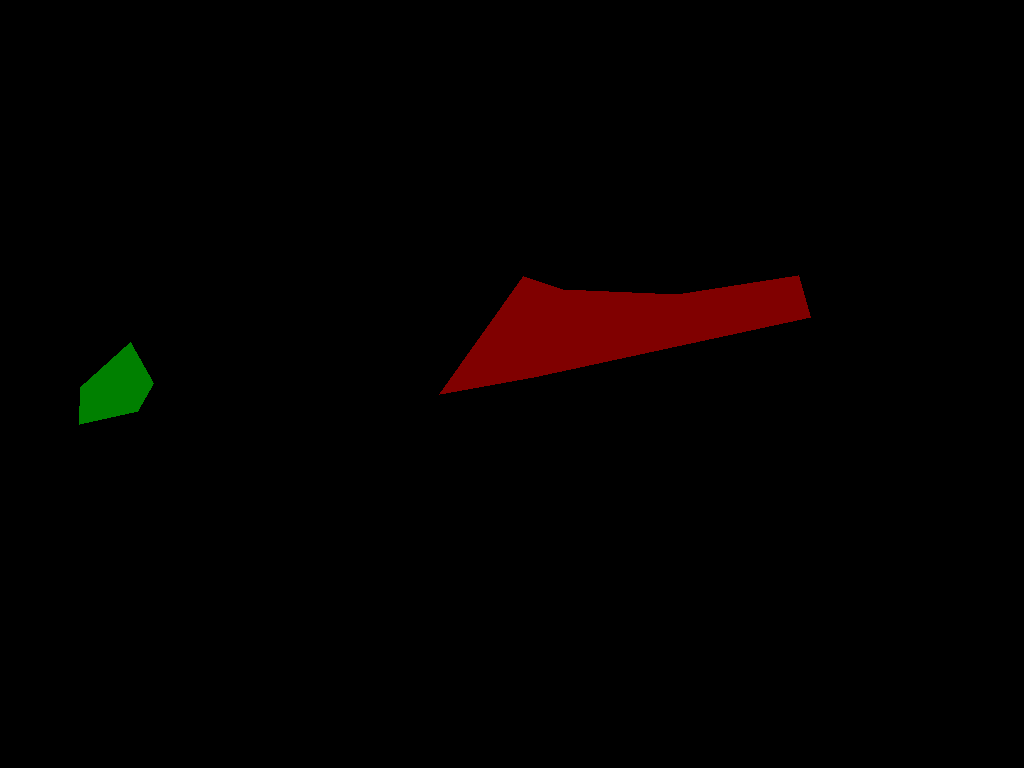fire: (439, 275, 810, 394), (79, 342, 153, 424)
